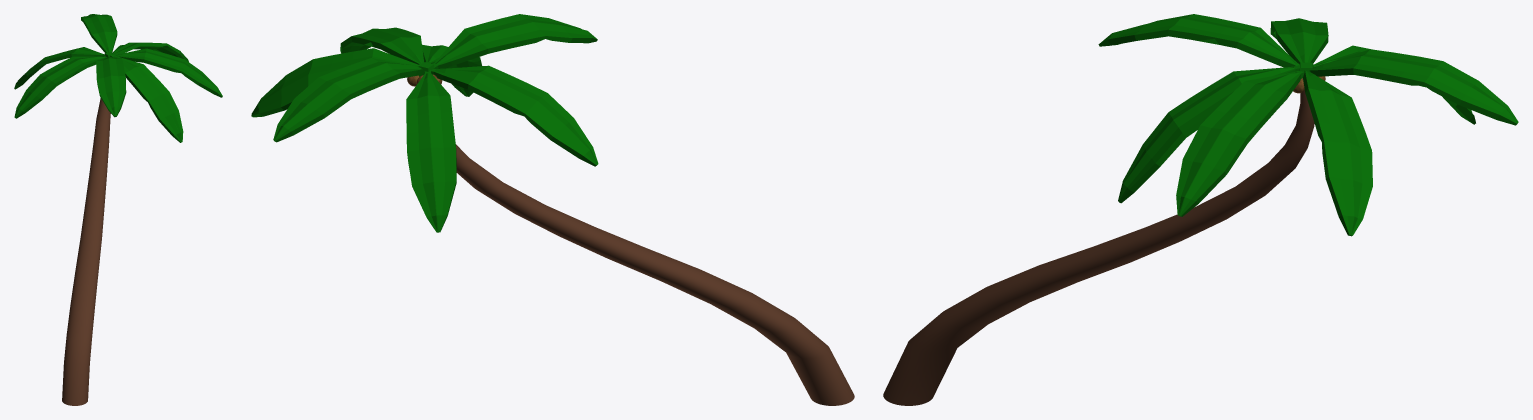
Rendered from palm tree_c.fbx.
3 renders of one model, left to right at view 1: azimuth 30°, elevation 25°; view 2: azimuth 150°, elevation 25°; view 3: azimuth 270°, elevation 25°, orthographic. The views are drawn at different scales.
Parts seen in each view (by area): view 1: Cylinder.027; view 2: Cylinder.027; view 3: Cylinder.027.
Part boxes in pixels (x1=…): Cylinder.027: x1=14, y1=14, x2=222, y2=405; Cylinder.027: x1=251, y1=14, x2=854, y2=405; Cylinder.027: x1=883, y1=14, x2=1518, y2=405.
Size of the model in its own units: 644 by 633 by 762.
Materials: 3 (1 with a texture image).
